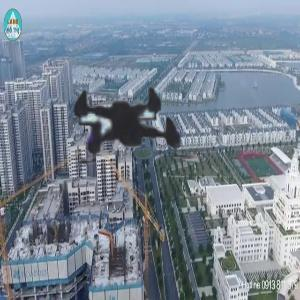drone: (19, 19, 234, 234)
